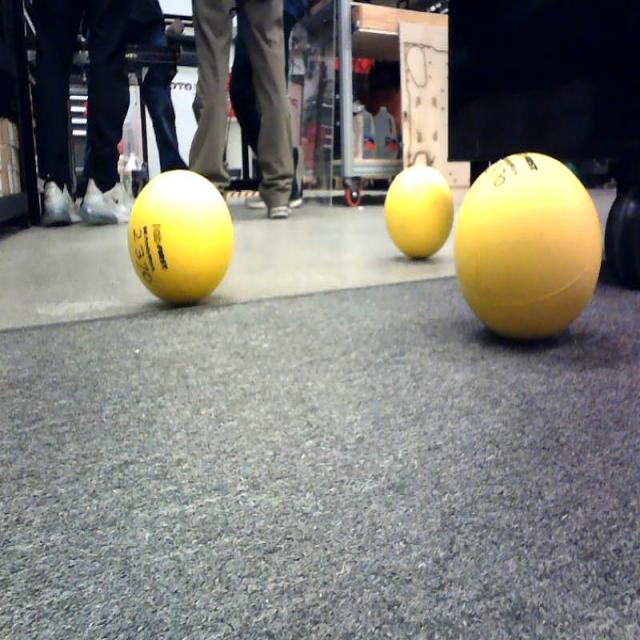Fuel: (454, 152, 602, 344), (128, 170, 235, 304), (385, 164, 454, 260)
